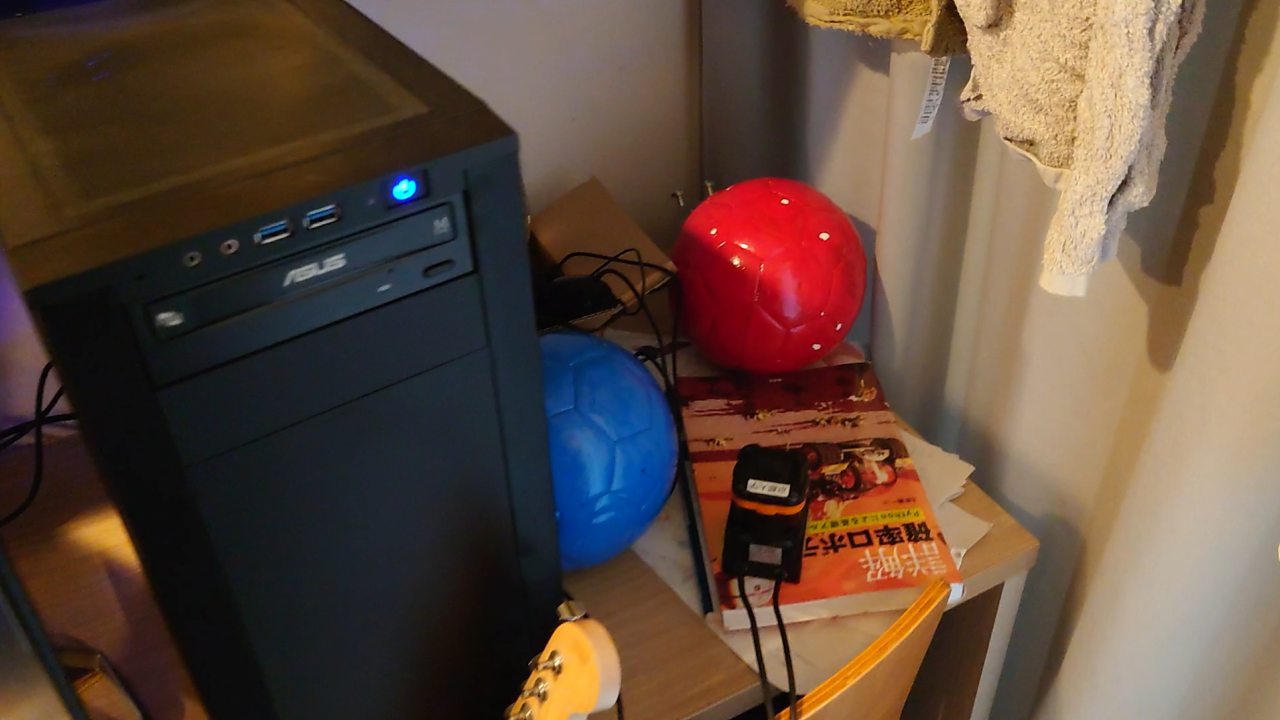blue: (521, 337, 672, 574)
red: (676, 182, 863, 377)
